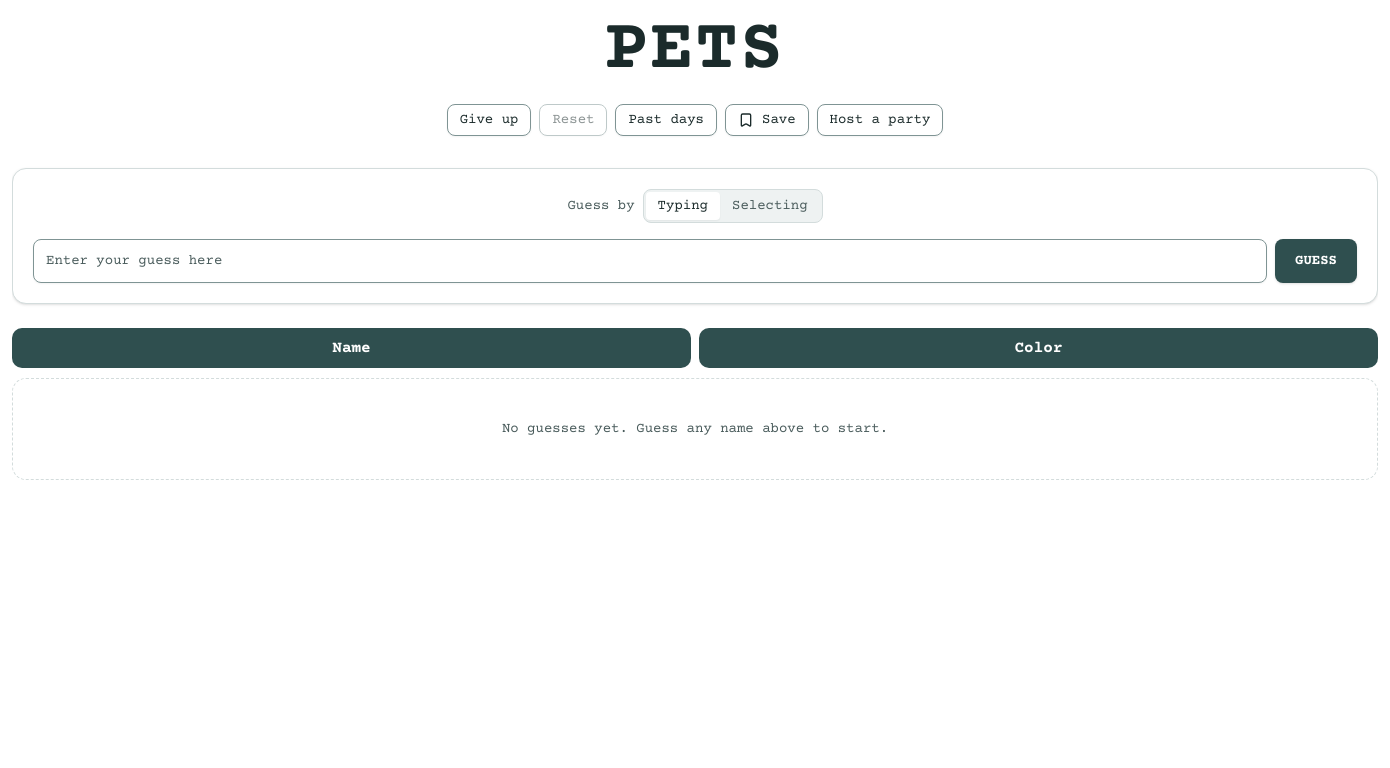
Test: PlayPage selection mode › filters by name, and hides the list
The image size is (1390, 768).
Expected: the text "No guesses yet. Guess any name above to start." is shown, [12, 378, 1378, 480]
Click the button "Selecting".
click(770, 206)  # box [720, 192, 820, 220]
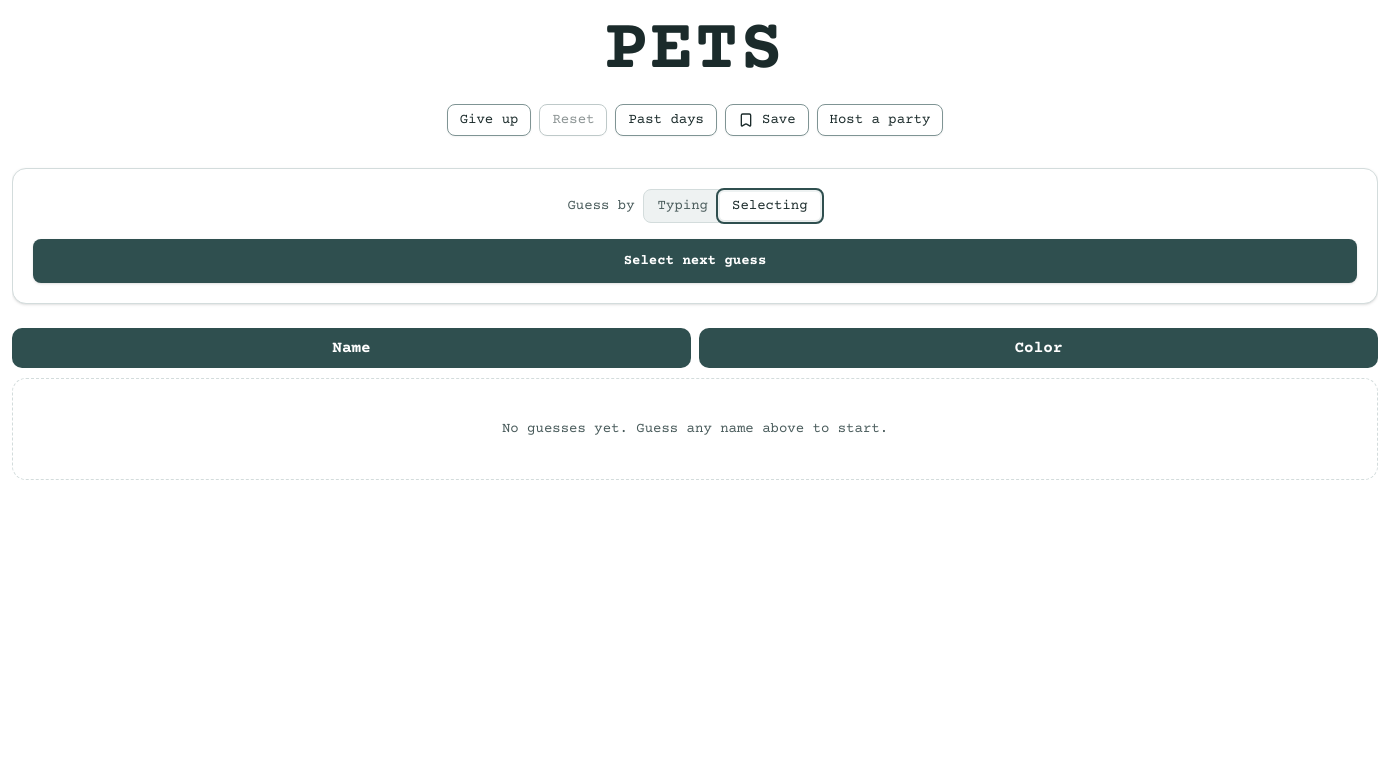
Click the button "Select next guess".
click(695, 261)  # box [33, 239, 1357, 283]
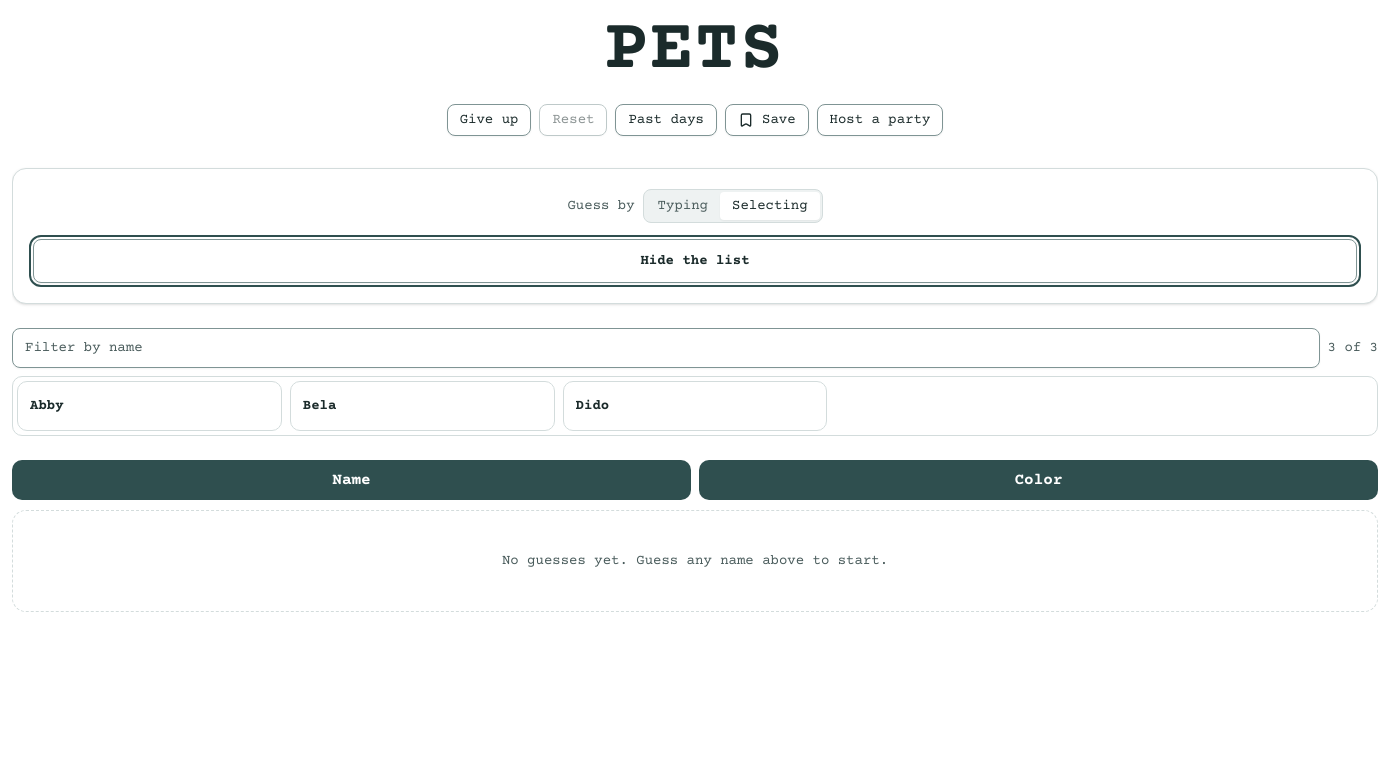
Type "D" into the field labelled "Filter by name".
click(666, 348); type("D")  # box [12, 328, 1320, 368]
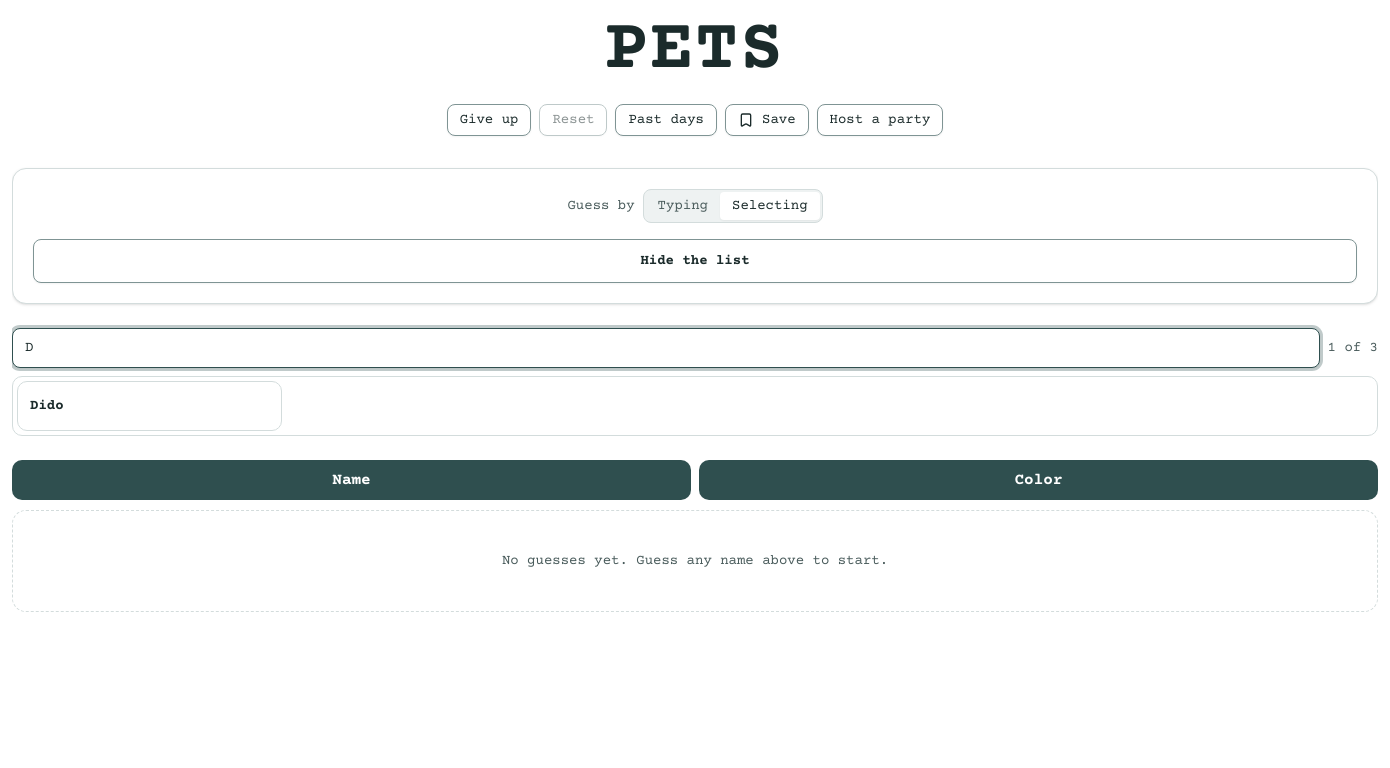
Click the button "Hide the list".
click(695, 261)  # box [33, 239, 1357, 283]
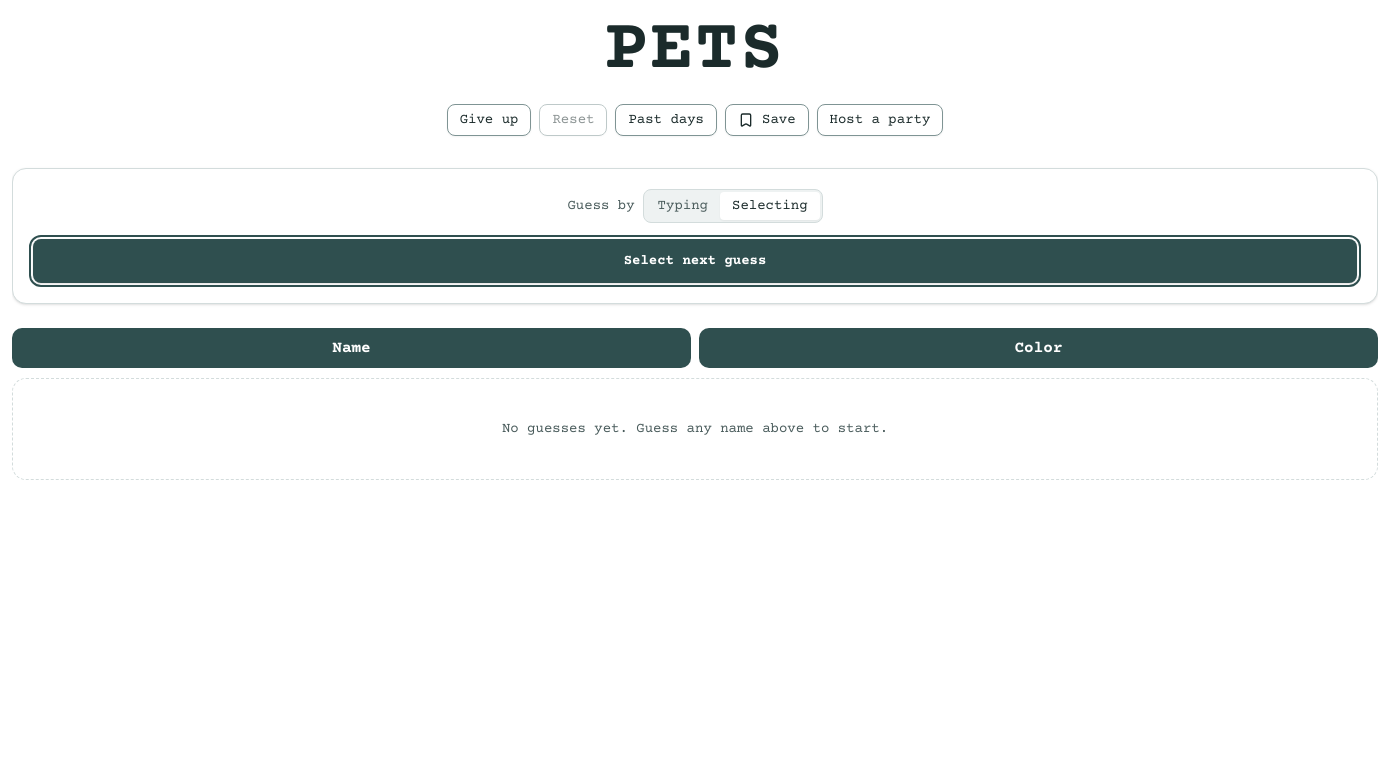
Now the element with id "select-list" is gone
Now the button "Select next guess" is shown, box [33, 239, 1357, 283]
